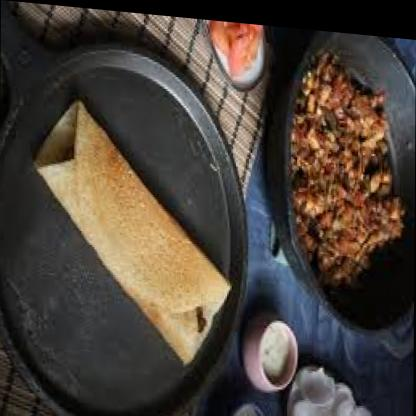dosa: (33, 96, 230, 364)
